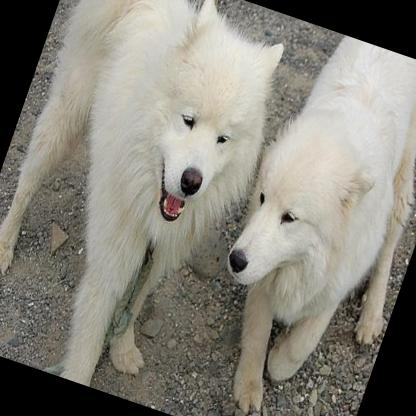Samoyed: (0, 0, 304, 412), (181, 22, 416, 416)
